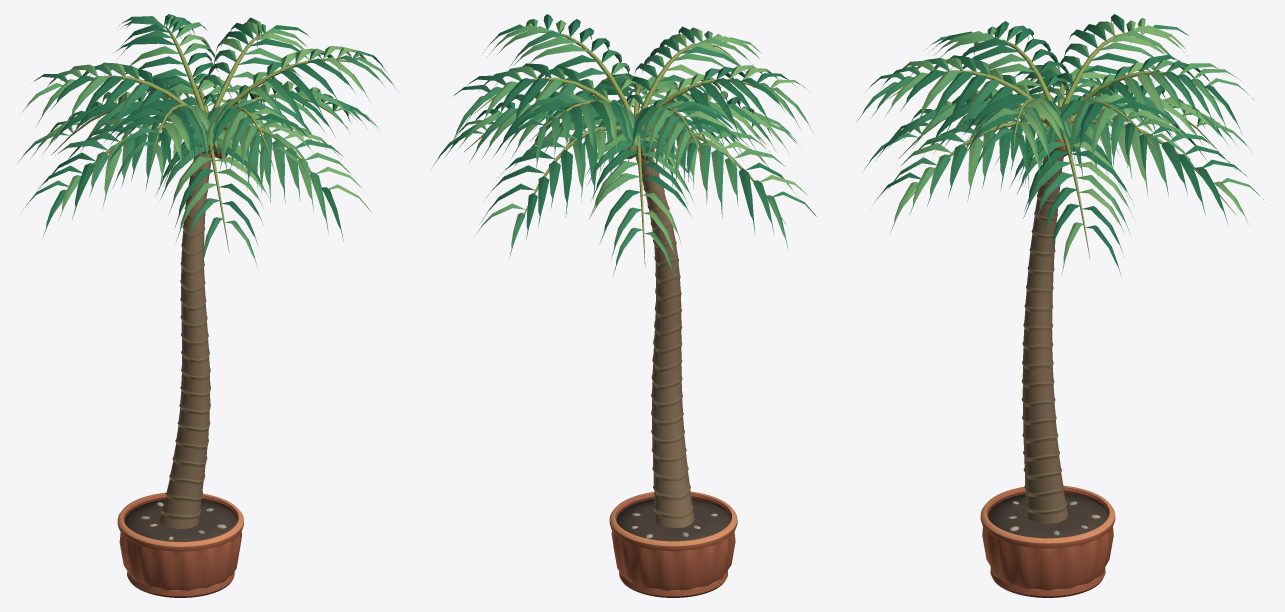
Rendered from palm_tree.glb.
The picture shows the model from 3 angles, left to right: view 1: azimuth 30°, elevation 25°; view 2: azimuth 150°, elevation 25°; view 3: azimuth 270°, elevation 25°; orthographic projection. The views are drawn at different scales.
Visible parts, largest first — view 1: palm_tree_Leaf_Light, palm_tree_Leaf_Jade, palm_tree_Leaf_Emerald, palm_tree_Palm_Bark, palm_tree_Glazed_Clay, palm_tree_Leaf_Sun, palm_tree_Leaf_Deep, palm_tree_Leaf_Rib, palm_tree_Earth, palm_tree_Palm_Scar, palm_tree_Bark_Shadow, palm_tree_Ochre_Glaze; view 2: palm_tree_Leaf_Light, palm_tree_Leaf_Jade, palm_tree_Leaf_Emerald, palm_tree_Palm_Bark, palm_tree_Glazed_Clay, palm_tree_Leaf_Deep, palm_tree_Leaf_Sun, palm_tree_Leaf_Rib, palm_tree_Earth, palm_tree_Palm_Scar, palm_tree_Bark_Shadow, palm_tree_Ochre_Glaze; view 3: palm_tree_Leaf_Light, palm_tree_Leaf_Emerald, palm_tree_Leaf_Jade, palm_tree_Palm_Bark, palm_tree_Glazed_Clay, palm_tree_Leaf_Sun, palm_tree_Leaf_Deep, palm_tree_Leaf_Rib, palm_tree_Earth, palm_tree_Palm_Scar, palm_tree_Ochre_Glaze, palm_tree_Bark_Shadow.
Part boxes in pixels (x1,y1,x2,y2): palm_tree_Leaf_Light: [21, 15, 392, 258]; palm_tree_Leaf_Jade: [16, 15, 397, 269]; palm_tree_Leaf_Emerald: [34, 14, 386, 238]; palm_tree_Palm_Bark: [159, 154, 211, 529]; palm_tree_Glazed_Clay: [117, 494, 243, 596]; palm_tree_Leaf_Sun: [27, 23, 376, 228]; palm_tree_Leaf_Deep: [46, 14, 374, 246]; palm_tree_Leaf_Rib: [49, 26, 368, 252]; palm_tree_Earth: [124, 499, 236, 541]; palm_tree_Palm_Scar: [161, 154, 210, 519]; palm_tree_Bark_Shadow: [161, 153, 210, 517]; palm_tree_Ochre_Glaze: [117, 492, 243, 591]; palm_tree_Leaf_Light: [455, 19, 809, 268]; palm_tree_Leaf_Jade: [449, 14, 816, 278]; palm_tree_Leaf_Emerald: [438, 14, 815, 244]; palm_tree_Palm_Bark: [635, 157, 694, 527]; palm_tree_Glazed_Clay: [609, 493, 737, 596]; palm_tree_Leaf_Deep: [432, 19, 795, 239]; palm_tree_Leaf_Sun: [459, 20, 805, 251]; palm_tree_Leaf_Rib: [464, 32, 786, 267]; palm_tree_Earth: [617, 498, 730, 541]; palm_tree_Palm_Scar: [635, 155, 693, 518]; palm_tree_Bark_Shadow: [636, 154, 693, 516]; palm_tree_Ochre_Glaze: [609, 491, 737, 591]; palm_tree_Leaf_Light: [863, 18, 1260, 275]; palm_tree_Leaf_Emerald: [876, 14, 1247, 266]; palm_tree_Leaf_Jade: [856, 24, 1266, 232]; palm_tree_Palm_Bark: [1022, 157, 1068, 523]; palm_tree_Glazed_Clay: [980, 487, 1115, 596]; palm_tree_Leaf_Sun: [891, 18, 1243, 262]; palm_tree_Leaf_Deep: [874, 14, 1242, 274]; palm_tree_Leaf_Rib: [888, 33, 1236, 258]; palm_tree_Earth: [988, 493, 1107, 538]; palm_tree_Palm_Scar: [1022, 162, 1066, 514]; palm_tree_Ochre_Glaze: [980, 485, 1115, 590]; palm_tree_Bark_Shadow: [1021, 160, 1066, 512].
Bounding box in the file's own units: 4.81 × 6.48 × 4.56.
